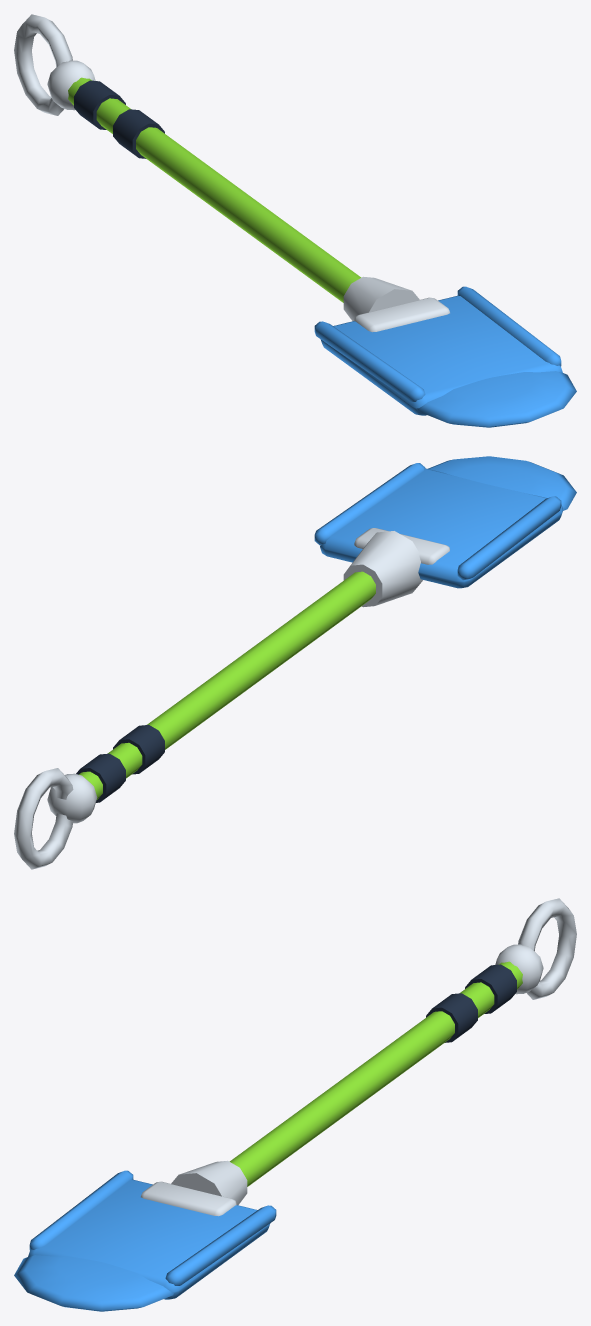
Rendered from Shovel.fbx.
3 views of the same model, one above another, from view 1: azimuth 30°, elevation 25°; view 2: azimuth 150°, elevation 25°; view 3: azimuth 330°, elevation 25° (orthographic).
Parts seen in each view (by area): view 1: Shovel; view 2: Shovel; view 3: Shovel.
Boxes of the visible parts, x1,y1,x2,y2 form: Shovel: (14, 14, 576, 427); Shovel: (14, 456, 576, 869); Shovel: (14, 898, 576, 1311).
Size of the model in its own units: 0.2308 by 0.134 by 1.31.
